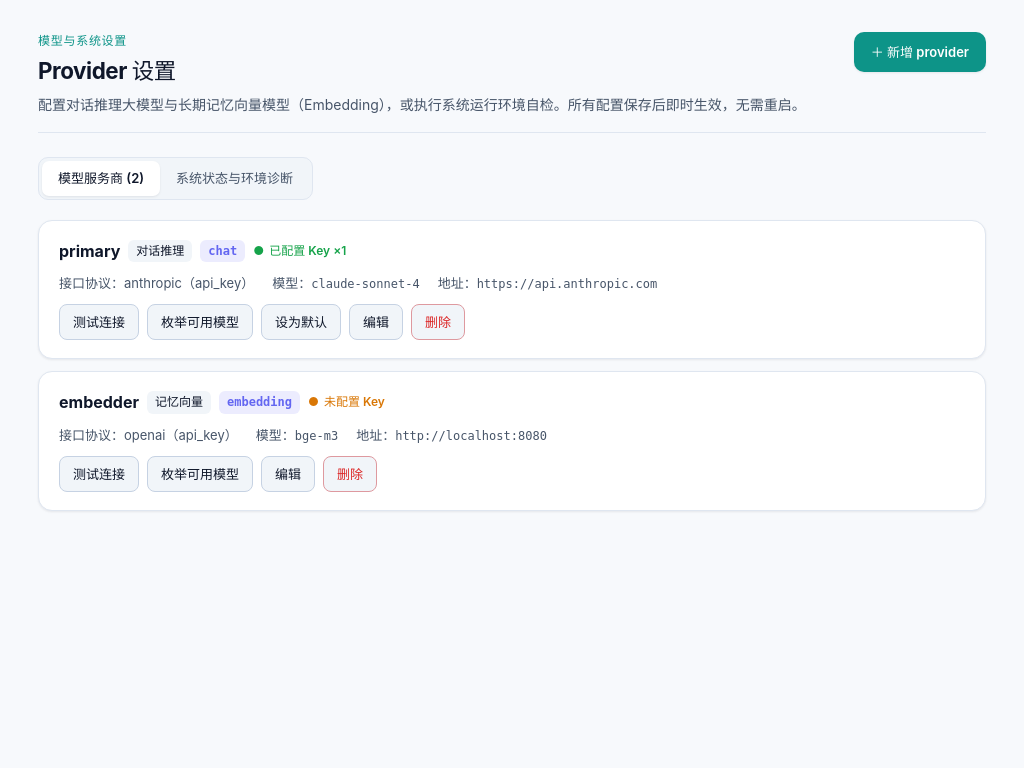
Test: SettingsPage › enumerates models with a live source badge
The image size is (1024, 768).
Click the button "枚举可用模型" below "claude-sonnet-4" at {"x": 200, "y": 322}, box left=147, top=304, right=253, bottom=340
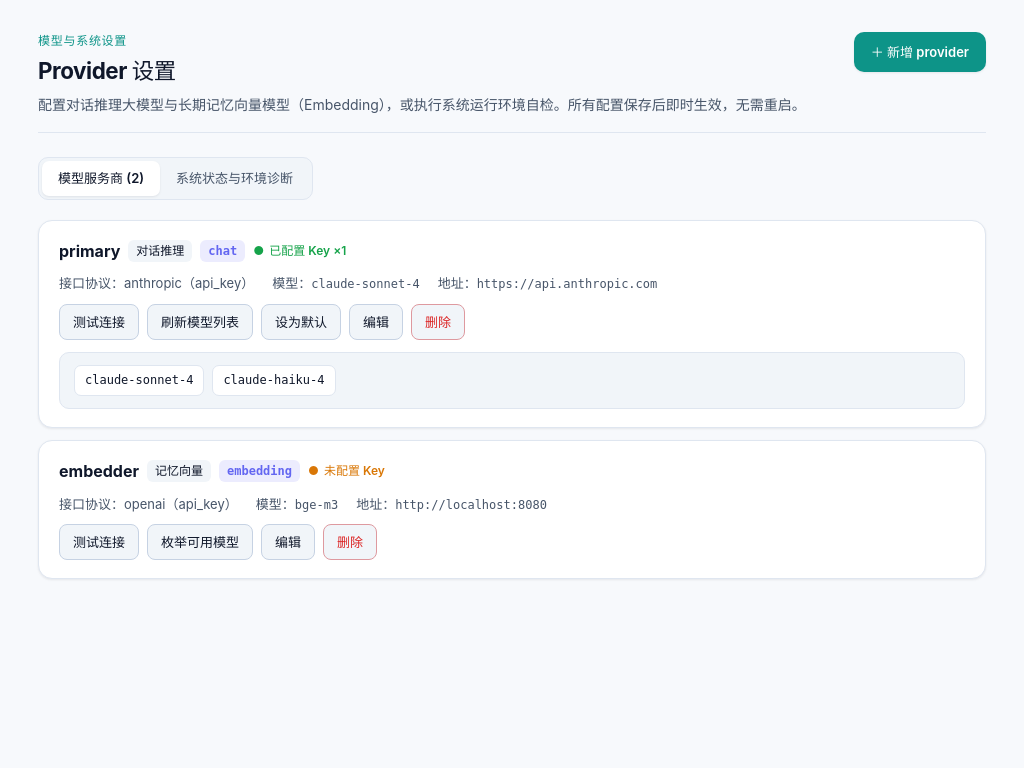
Result: the text "claude-haiku-4" is shown at left=212, top=365, right=336, bottom=396
